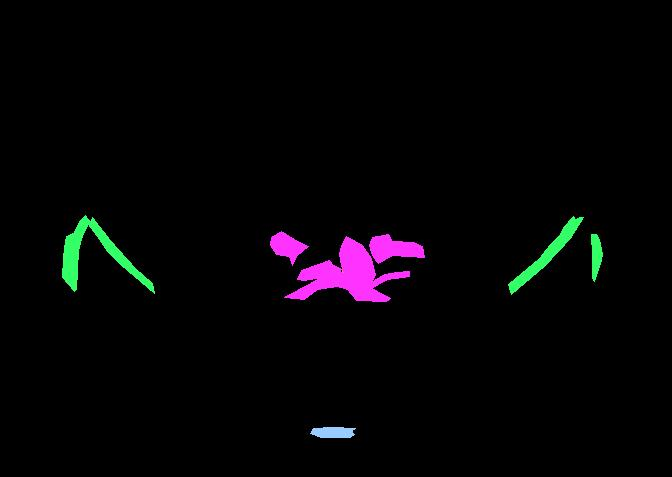Broken part: (62, 215, 154, 293), (508, 216, 583, 294), (591, 234, 602, 281)
Corrosion: (310, 427, 355, 437)
Dent: (284, 269, 390, 301), (339, 236, 375, 289), (369, 234, 424, 263), (270, 231, 308, 265), (297, 260, 341, 280), (366, 271, 409, 289)
Paint chip: (358, 287, 368, 293), (341, 269, 347, 276)
